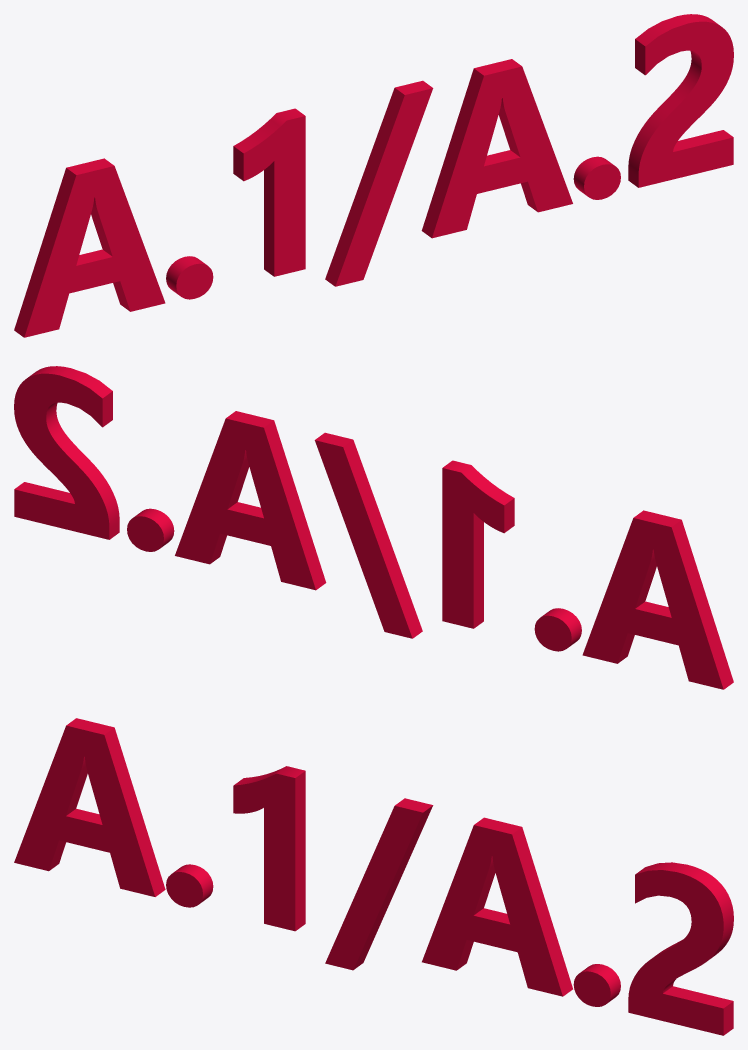
3 renders of one model, top to bottom at view 1: azimuth 30°, elevation 25°; view 2: azimuth 150°, elevation 25°; view 3: azimuth 330°, elevation 25°, orthographic.
Parts seen in each view (by area): view 1: mesh_id33; view 2: mesh_id33; view 3: mesh_id33.
Part boxes in pixels (box(x1,y1,x2,y2)): mesh_id33: box(14, 14, 733, 337); mesh_id33: box(14, 366, 733, 689); mesh_id33: box(14, 718, 733, 1035).
Size of the model in its own units: 0.5998 by 0.015 by 0.1439.
